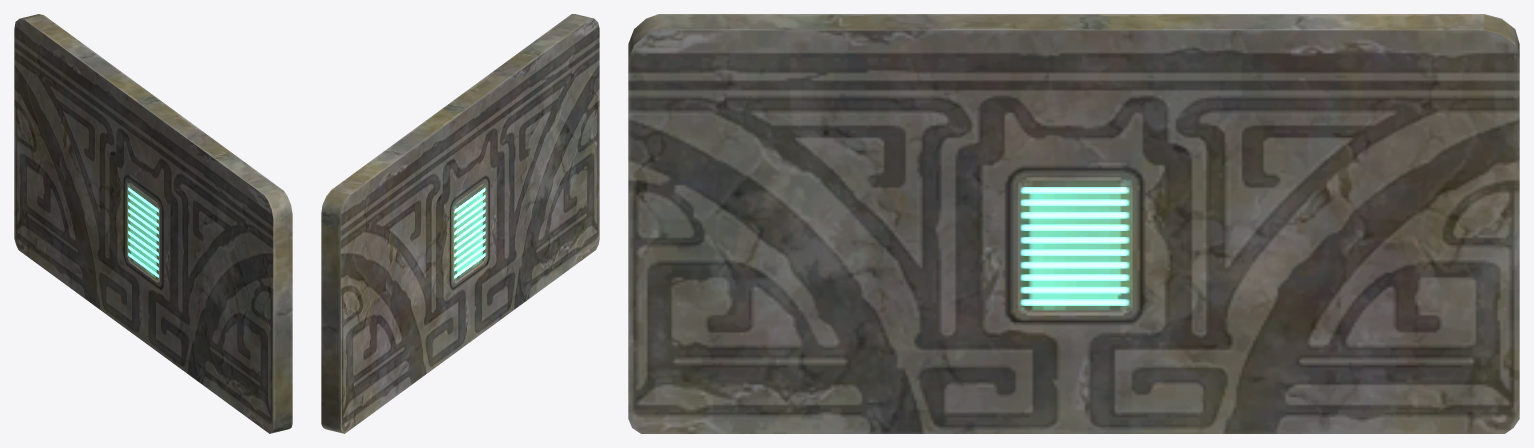
File: all_arch_rakata_wall_set06.glb
3 views of the same model, side by side, from view 1: azimuth 30°, elevation 25°; view 2: azimuth 150°, elevation 25°; view 3: azimuth 270°, elevation 25° (orthographic). The views are drawn at different scales.
Visible parts, largest first — view 1: all_arch_rakata_wall_set06; view 2: all_arch_rakata_wall_set06; view 3: all_arch_rakata_wall_set06.
Boxes of the visible parts, x1,y1,x2,y2 form: all_arch_rakata_wall_set06: (14,14,292,433); all_arch_rakata_wall_set06: (321,14,599,433); all_arch_rakata_wall_set06: (628,14,1519,433).
Size of the model in its own units: 0.0345 by 0.4 by 0.8.
1 material, 1 textured.
